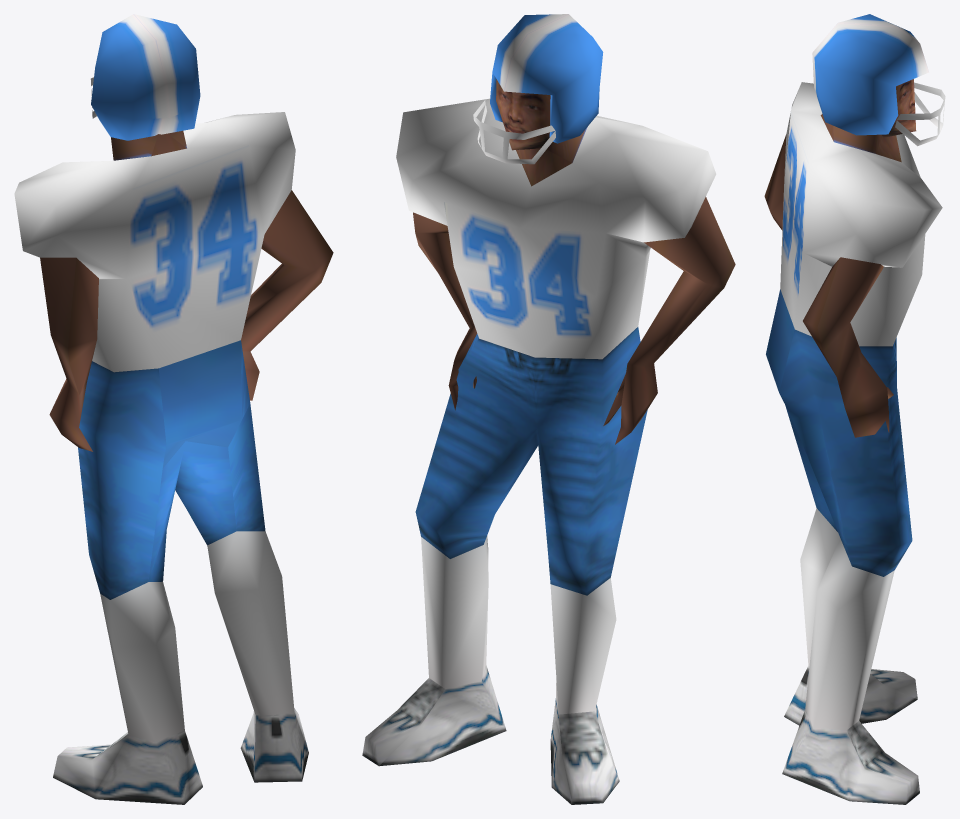
The model's file is view.ico.obj.
3 views of the same model, side by side, from view 1: azimuth 30°, elevation 25°; view 2: azimuth 150°, elevation 25°; view 3: azimuth 270°, elevation 25° (orthographic). The views are drawn at different scales.
Size of the model in its own units: 1.91 by 4.64 by 1.08.
1 material, 1 textured.
